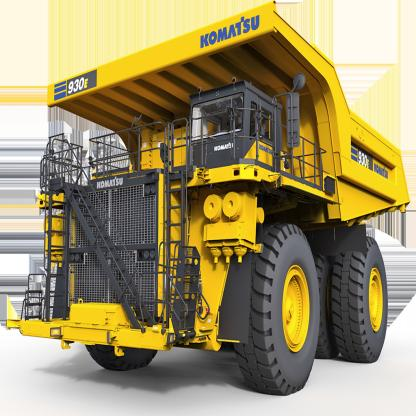dump_truck: (20, 4, 408, 386)
